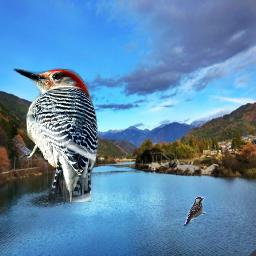Woodpecker: (8, 61, 103, 202), (182, 195, 207, 228)
